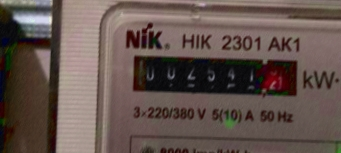0: (144, 61, 157, 83), (165, 60, 177, 81)
1: (246, 61, 258, 85)
2: (185, 60, 200, 82)
4: (226, 60, 238, 82)
5: (205, 61, 218, 84)
6: (267, 78, 279, 91)
screen: (120, 44, 311, 106)
